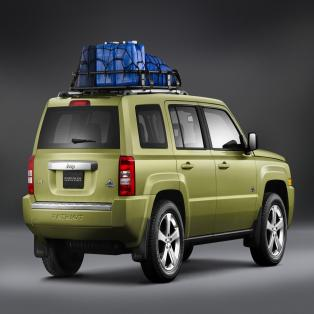Auto: (21, 39, 295, 282)
